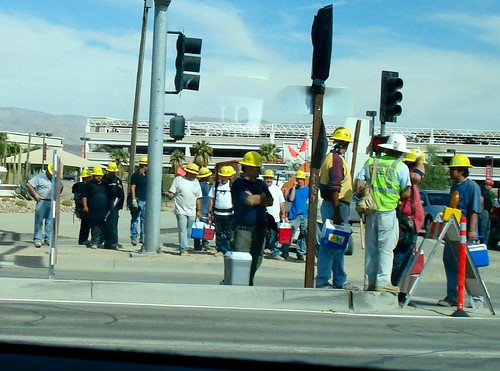person hardhat: (445, 152, 494, 310), (361, 131, 400, 301), (319, 121, 354, 301), (392, 149, 432, 301), (233, 147, 267, 283), (206, 166, 235, 264), (168, 164, 196, 256), (29, 163, 59, 246), (261, 164, 287, 258), (127, 157, 155, 243), (101, 161, 125, 256), (289, 164, 311, 258), (89, 166, 111, 247), (192, 163, 210, 255), (71, 168, 94, 237)
